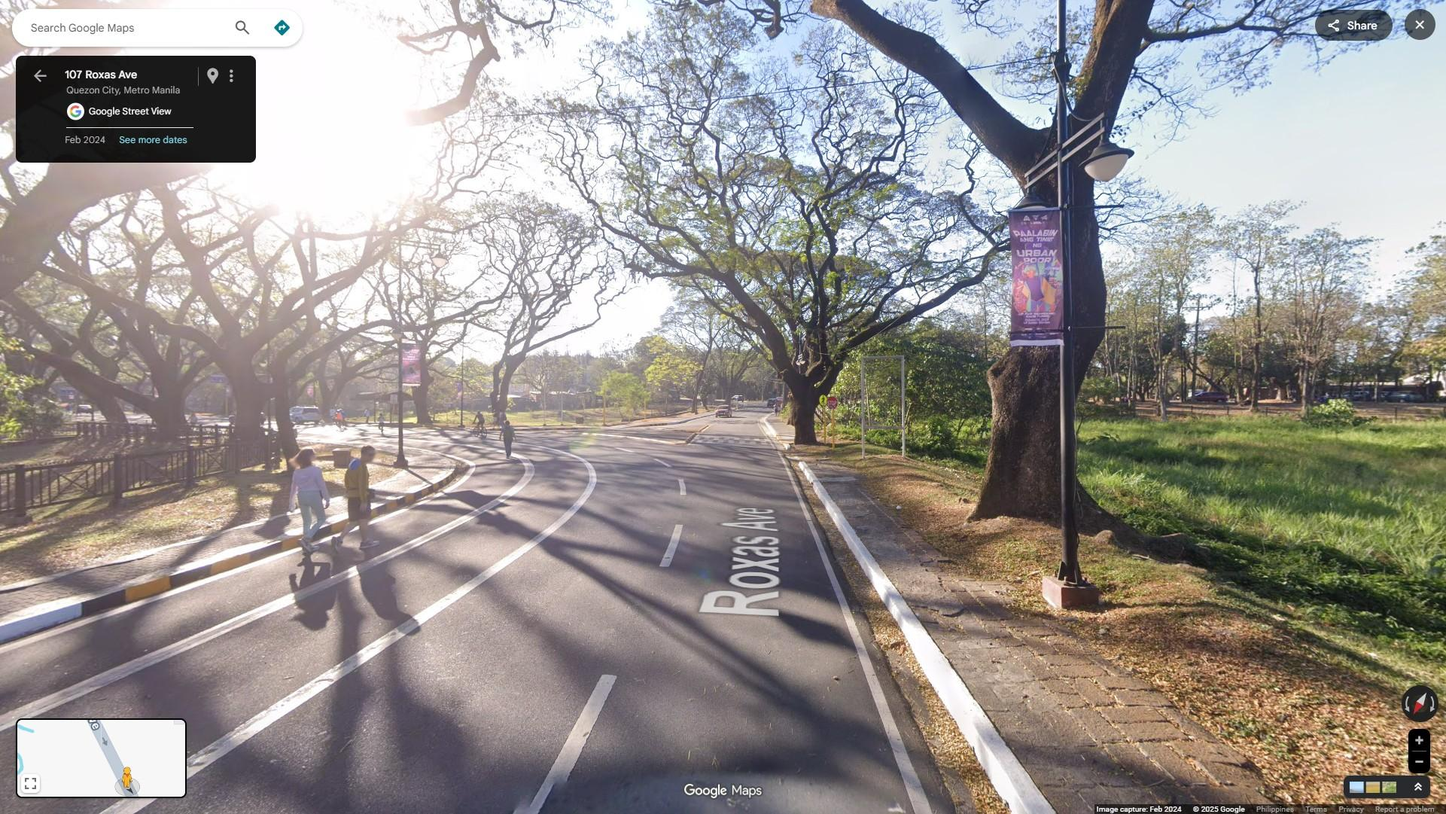cyclist: (472, 410, 487, 438), (330, 409, 344, 431)
pedestrian: (287, 445, 331, 556), (336, 445, 380, 550), (499, 417, 518, 461), (497, 407, 508, 429), (187, 411, 198, 433), (377, 413, 386, 436), (490, 408, 499, 430), (329, 407, 336, 425), (364, 407, 370, 424), (774, 402, 778, 416), (777, 403, 781, 416)
